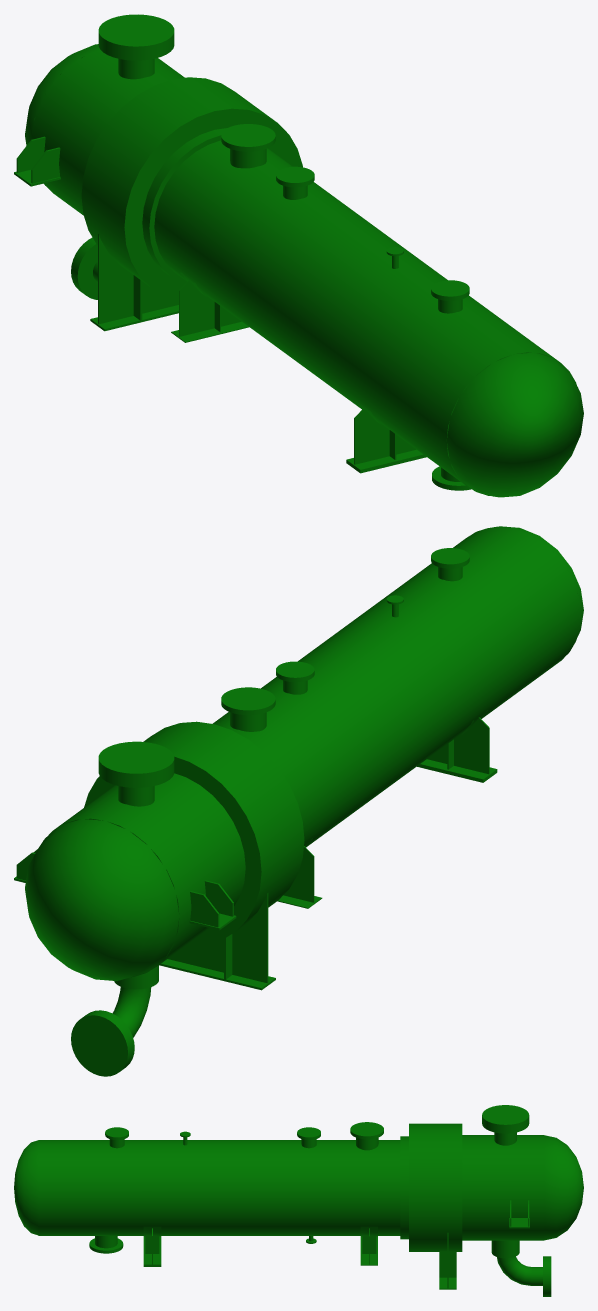
The model's file is Image-1711348063160-2281276987456_24-HA50B.fbx.
3 views of the same model, one above another, from view 1: azimuth 30°, elevation 25°; view 2: azimuth 150°, elevation 25°; view 3: azimuth 270°, elevation 25° (orthographic). The views are drawn at different scales.
Parts seen in each view (by area): view 1: CYLINDER 1 of SUBEQUIPMENT /24-HA50B/PRIM, CYLINDER 3 of SUBEQUIPMENT /24-HA50B/PRIM, CYLINDER 2 of SUBEQUIPMENT /24-HA50B/PRIM, DISH 1 of SUBEQUIPMENT /24-HA50B/PRIM, CYLINDER 5 of SUBEQUIPMENT /24-HA50B/PRIM, CYLINDER 7 of SUBEQUIPMENT /24-HA50B/PRIM, CYLINDER 6 of SUBEQUIPMENT /24-HA50B/PRIM, /24-HA50B/N1, BOX 2 of SUBEQUIPMENT /24-HA50B/FIXED-SUPPORT, CYLINDER 4 of SUBEQUIPMENT /24-HA50B/PRIM, /24-HA50B/N4, BOX 2 of SUBEQUIPMENT /24-HA50B/MAINT-SUPPORT-SHELL (+7 smaller); view 2: CYLINDER 1 of SUBEQUIPMENT /24-HA50B/PRIM, DISH 2 of SUBEQUIPMENT /24-HA50B/PRIM, CYLINDER 2 of SUBEQUIPMENT /24-HA50B/PRIM, CYLINDER 3 of SUBEQUIPMENT /24-HA50B/PRIM, CYLINDER 7 of SUBEQUIPMENT /24-HA50B/PRIM, CYLINDER 6 of SUBEQUIPMENT /24-HA50B/PRIM, CYLINDER 5 of SUBEQUIPMENT /24-HA50B/PRIM, /24-HA50B/N1, BOX 2 of SUBEQUIPMENT /24-HA50B/FIXED-SUPPORT, /24-HA50B/N2, /24-HA50B/N4, BOX 2 of SUBEQUIPMENT /24-HA50B/SLIDING-SUPPORT (+6 smaller); view 3: CYLINDER 1 of SUBEQUIPMENT /24-HA50B/PRIM, CYLINDER 3 of SUBEQUIPMENT /24-HA50B/PRIM, CYLINDER 2 of SUBEQUIPMENT /24-HA50B/PRIM, CYLINDER 7 of SUBEQUIPMENT /24-HA50B/PRIM, CYLINDER 6 of SUBEQUIPMENT /24-HA50B/PRIM, CYLINDER 5 of SUBEQUIPMENT /24-HA50B/PRIM, DISH 2 of SUBEQUIPMENT /24-HA50B/PRIM, DISH 1 of SUBEQUIPMENT /24-HA50B/PRIM, /24-HA50B/N1, CYLINDER 4 of SUBEQUIPMENT /24-HA50B/PRIM, /24-HA50B/N4, CTORUS 1 of SUBEQUIPMENT /24-HA50B/NOZZ (+9 smaller).
Part boxes in pixels (left/top/right/bottom): CYLINDER 1 of SUBEQUIPMENT /24-HA50B/PRIM: left=342, top=275, right=576, bottom=495; CYLINDER 3 of SUBEQUIPMENT /24-HA50B/PRIM: left=154, top=140, right=369, bottom=346; CYLINDER 2 of SUBEQUIPMENT /24-HA50B/PRIM: left=257, top=213, right=447, bottom=408; DISH 1 of SUBEQUIPMENT /24-HA50B/PRIM: left=446, top=352, right=583, bottom=497; CYLINDER 5 of SUBEQUIPMENT /24-HA50B/PRIM: left=104, top=93, right=302, bottom=300; CYLINDER 7 of SUBEQUIPMENT /24-HA50B/PRIM: left=31, top=49, right=184, bottom=215; CYLINDER 6 of SUBEQUIPMENT /24-HA50B/PRIM: left=81, top=77, right=256, bottom=271; /24-HA50B/N1: left=98, top=14, right=174, bottom=79; BOX 2 of SUBEQUIPMENT /24-HA50B/FIXED-SUPPORT: left=98, top=234, right=178, bottom=324; CYLINDER 4 of SUBEQUIPMENT /24-HA50B/PRIM: left=142, top=128, right=285, bottom=283; /24-HA50B/N4: left=221, top=124, right=275, bottom=168; BOX 2 of SUBEQUIPMENT /24-HA50B/MAINT-SUPPORT-SHELL: left=179, top=287, right=241, bottom=336; CYLINDER 1 of SUBEQUIPMENT /24-HA50B/PRIM: left=363, top=527, right=580, bottom=736; DISH 2 of SUBEQUIPMENT /24-HA50B/PRIM: left=25, top=819, right=179, bottom=980; CYLINDER 2 of SUBEQUIPMENT /24-HA50B/PRIM: left=298, top=604, right=476, bottom=798; CYLINDER 3 of SUBEQUIPMENT /24-HA50B/PRIM: left=212, top=666, right=391, bottom=847; CYLINDER 7 of SUBEQUIPMENT /24-HA50B/PRIM: left=43, top=773, right=245, bottom=977; CYLINDER 6 of SUBEQUIPMENT /24-HA50B/PRIM: left=84, top=736, right=284, bottom=946; CYLINDER 5 of SUBEQUIPMENT /24-HA50B/PRIM: left=143, top=721, right=304, bottom=907; /24-HA50B/N1: left=98, top=741, right=174, bottom=806; BOX 2 of SUBEQUIPMENT /24-HA50B/FIXED-SUPPORT: left=168, top=893, right=268, bottom=982; /24-HA50B/N2: left=71, top=1010, right=134, bottom=1076; /24-HA50B/N4: left=221, top=687, right=275, bottom=731; BOX 2 of SUBEQUIPMENT /24-HA50B/SLIDING-SUPPORT: left=427, top=724, right=489, bottom=774; CYLINDER 1 of SUBEQUIPMENT /24-HA50B/PRIM: left=38, top=1140, right=168, bottom=1235; CYLINDER 3 of SUBEQUIPMENT /24-HA50B/PRIM: left=273, top=1140, right=400, bottom=1235; CYLINDER 2 of SUBEQUIPMENT /24-HA50B/PRIM: left=168, top=1140, right=272, bottom=1235; CYLINDER 7 of SUBEQUIPMENT /24-HA50B/PRIM: left=462, top=1135, right=544, bottom=1240; CYLINDER 6 of SUBEQUIPMENT /24-HA50B/PRIM: left=434, top=1123, right=462, bottom=1251; CYLINDER 5 of SUBEQUIPMENT /24-HA50B/PRIM: left=409, top=1123, right=434, bottom=1251; DISH 2 of SUBEQUIPMENT /24-HA50B/PRIM: left=544, top=1135, right=583, bottom=1240; DISH 1 of SUBEQUIPMENT /24-HA50B/PRIM: left=14, top=1140, right=38, bottom=1235; /24-HA50B/N1: left=482, top=1105, right=529, bottom=1145; CYLINDER 4 of SUBEQUIPMENT /24-HA50B/PRIM: left=400, top=1136, right=408, bottom=1239; /24-HA50B/N4: left=350, top=1122, right=383, bottom=1150; CTORUS 1 of SUBEQUIPMENT /24-HA50B/NOZZ: left=497, top=1256, right=532, bottom=1285.
Bounding box in the file's own units: 2.1 × 8.15 × 2.84.
